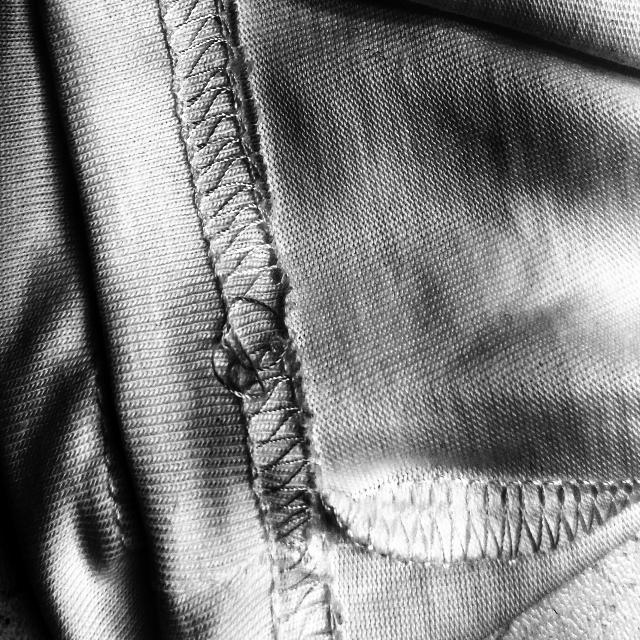Sewing_error: (212, 282, 302, 424)
